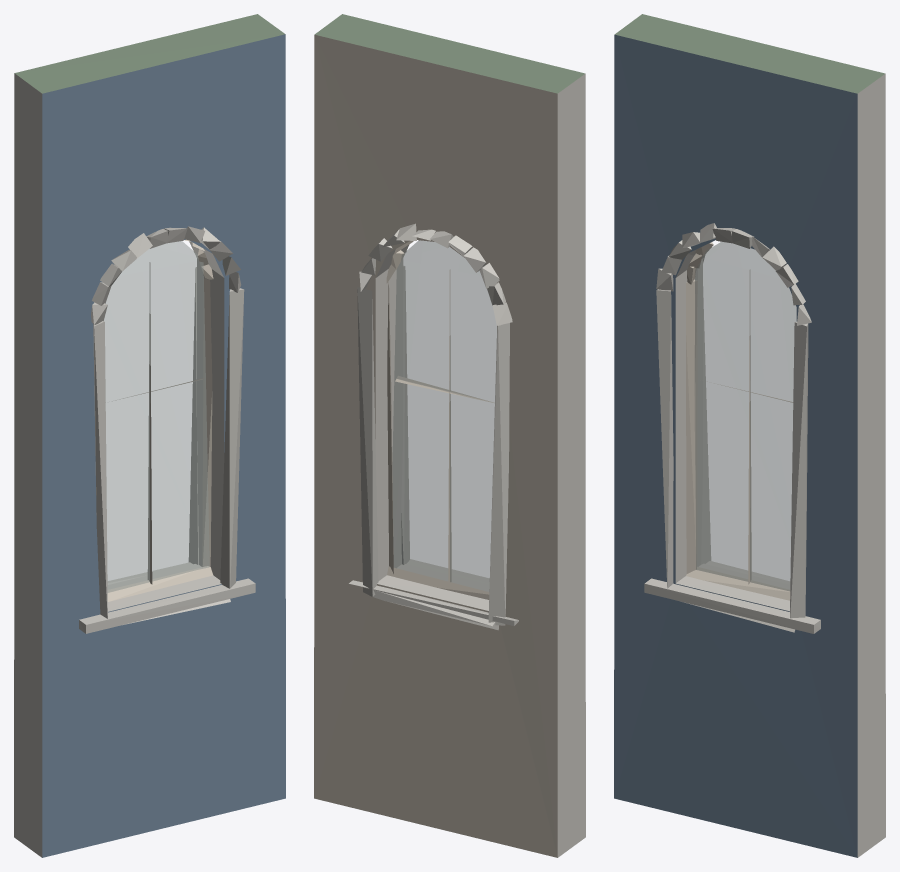
File: SM_Kit_Wall_Window_Arched_LOD2.glb
3 views of the same model, side by side, from view 1: azimuth 30°, elevation 25°; view 2: azimuth 150°, elevation 25°; view 3: azimuth 330°, elevation 25° (orthographic).
Parts seen in each view (by area): view 1: SM_Kit_Wall_Window_Arched_LOD2; view 2: SM_Kit_Wall_Window_Arched_LOD2; view 3: SM_Kit_Wall_Window_Arched_LOD2.
Part boxes in pixels (<box>): SM_Kit_Wall_Window_Arched_LOD2: <box>14,14,285,857</box>; SM_Kit_Wall_Window_Arched_LOD2: <box>314,14,585,857</box>; SM_Kit_Wall_Window_Arched_LOD2: <box>614,14,885,857</box>.
Size of the model in its own units: 1 by 3 by 0.293.
